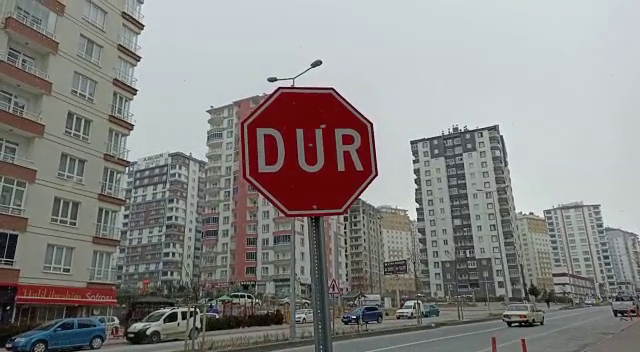stop: (238, 83, 382, 220)
